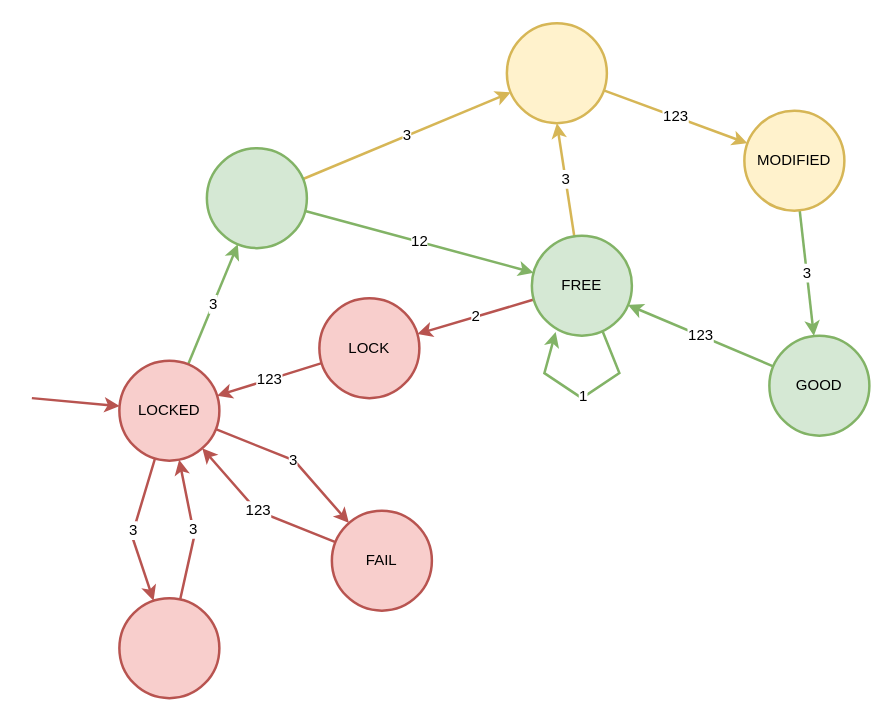
Image size: 891x720. Some labels were removed from this diagram. Each missing label, with the centre of its shape:
"DEAD" belongs at pixel 169 647.
"PASS" belongs at pixel 256 197.
"SET" belongs at pixel 556 72.
